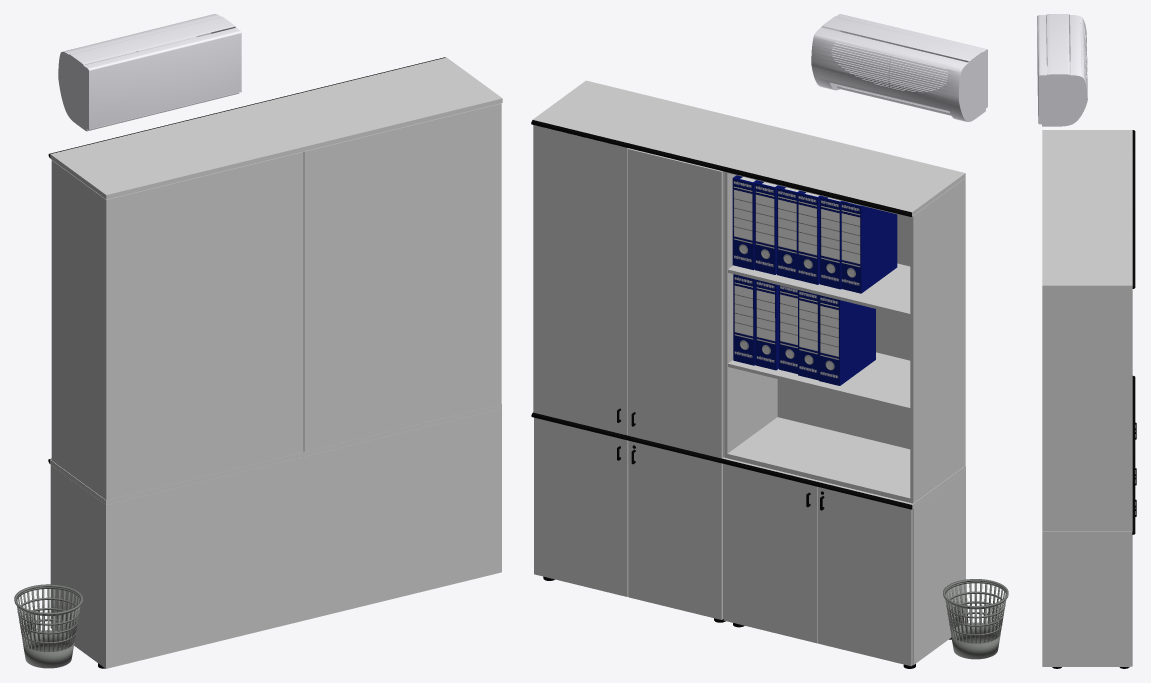
Rendered from paretedietrosezionearmadio.gltf.
3 views of the same model, side by side, from view 1: azimuth 30°, elevation 25°; view 2: azimuth 150°, elevation 25°; view 3: azimuth 270°, elevation 25° (orthographic). The views are drawn at different scales.
Visible parts, largest first — view 1: Armadio Vetrina Corpo, Armadio Opaco Corpo, Armadio Vetrina Basso, Armadio Opaco Basso, Parete Dietro Condizionatore, Cestino; view 2: Armadio Vetrina Corpo, Armadio Vetrina Basso, Armadio Opaco Basso, Armadio Opaco Corpo Anta Dx, Armadio Opaco Corpo Anta Sx, Parete Dietro Condizionatore, Armadio Opaco Corpo, Armadio Vetrina Scaffale Alto Faldone 6, Armadio Vetrina Scaffale Medio Faldone 5, Cestino, Armadio Vetrina Scaffale Alto Faldone 1, Armadio Vetrina Scaffale Alto Faldone 2 (+7 smaller); view 3: Armadio Opaco Corpo, Armadio Opaco Basso, Armadio Vetrina Corpo, Parete Dietro Condizionatore, Armadio Opaco Corpo Anta Sx, Armadio Vetrina Basso.
Boxes of the visible parts, left/top/right/bottom form: Armadio Vetrina Corpo: left=48, top=105, right=304, bottom=500; Armadio Opaco Corpo: left=247, top=57, right=502, bottom=451; Armadio Vetrina Basso: left=48, top=452, right=303, bottom=668; Armadio Opaco Basso: left=304, top=404, right=501, bottom=620; Parete Dietro Condizionatore: left=58, top=14, right=241, bottom=131; Cestino: left=14, top=584, right=82, bottom=668; Armadio Vetrina Corpo: left=720, top=127, right=965, bottom=503; Armadio Vetrina Basso: left=721, top=457, right=965, bottom=668; Armadio Opaco Basso: left=531, top=412, right=725, bottom=622; Armadio Opaco Corpo Anta Dx: left=627, top=148, right=722, bottom=458; Armadio Opaco Corpo Anta Sx: left=533, top=125, right=628, bottom=435; Parete Dietro Condizionatore: left=811, top=14, right=987, bottom=121; Armadio Opaco Corpo: left=531, top=80, right=775, bottom=457; Armadio Vetrina Scaffale Alto Faldone 6: left=841, top=201, right=897, bottom=293; Armadio Vetrina Scaffale Medio Faldone 5: left=819, top=295, right=875, bottom=385; Cestino: left=943, top=579, right=1008, bottom=659; Armadio Vetrina Scaffale Alto Faldone 1: left=732, top=175, right=757, bottom=270; Armadio Vetrina Scaffale Alto Faldone 2: left=754, top=180, right=779, bottom=274; Armadio Opaco Corpo: left=1042, top=208, right=1135, bottom=530; Armadio Opaco Basso: left=1042, top=453, right=1136, bottom=668; Armadio Vetrina Corpo: left=1042, top=130, right=1135, bottom=208; Parete Dietro Condizionatore: left=1037, top=14, right=1087, bottom=126; Armadio Opaco Corpo Anta Sx: left=1130, top=289, right=1136, bottom=530; Armadio Vetrina Basso: left=1132, top=376, right=1136, bottom=453.
Size of the model in its own units: 2.12 by 2.7 by 0.4916.
Materials: 6 (1 with a texture image).
